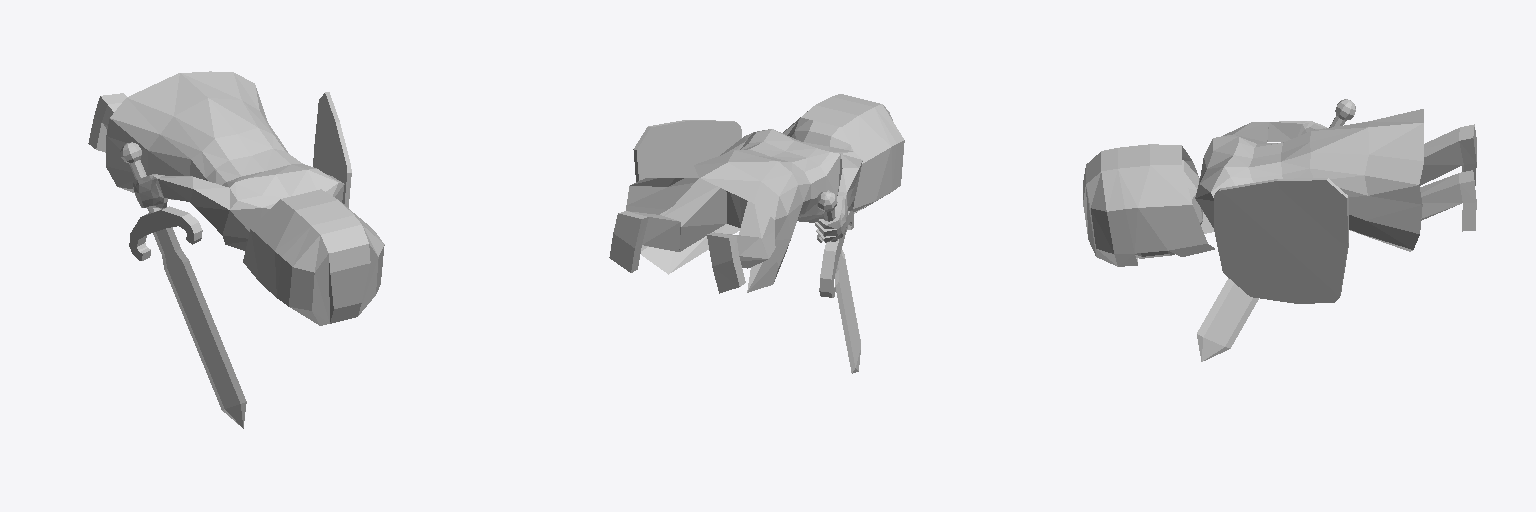
3 renders of one model, left to right at view 1: azimuth 30°, elevation 25°; view 2: azimuth 150°, elevation 25°; view 3: azimuth 270°, elevation 25°, orthographic.
Visible parts, largest first — view 1: knight; view 2: knight; view 3: knight.
Part boxes in pixels (bbox=[...]): knight: bbox=[88, 71, 384, 428]; knight: bbox=[609, 94, 904, 373]; knight: bbox=[1083, 99, 1476, 361].
Bounding box in the file's own units: 5.05 × 6.28 × 8.53.
Materials: 2 (1 with a texture image).